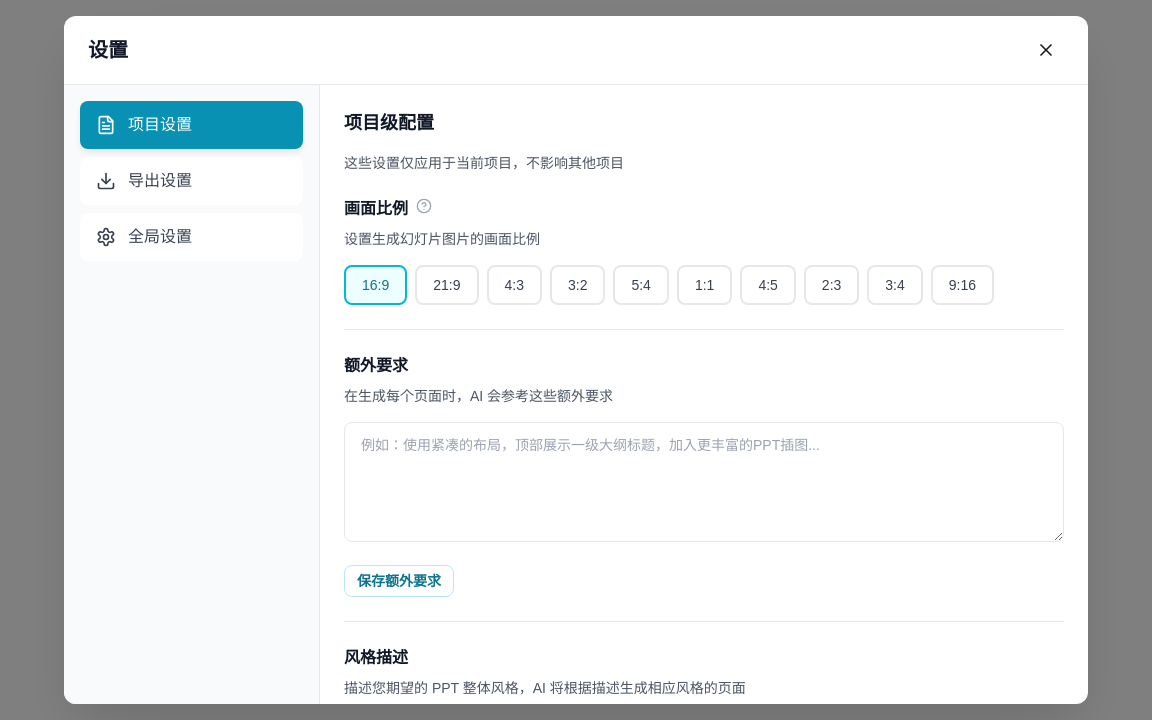
Test: ProjectSettingsModal render mode › hides image reconstruction settings for native projects
The image size is (1152, 720).
Step 1. Click the button "导出设置" → (192,181), box [80,157,303,205]
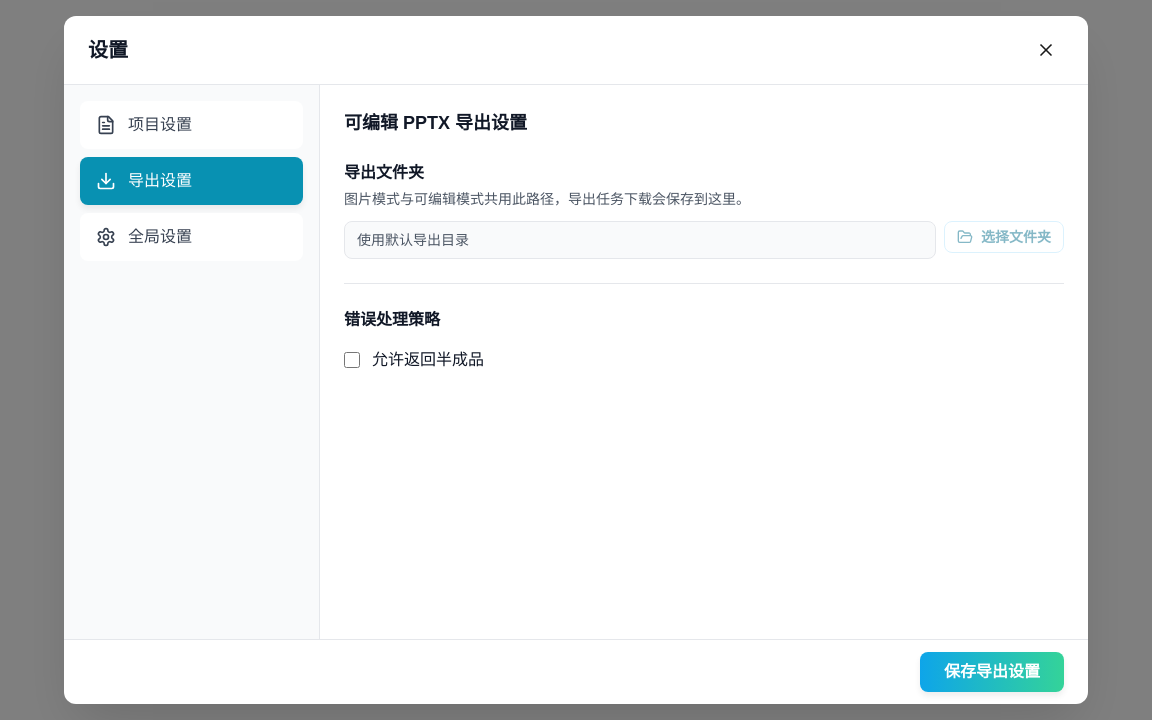
Result: the checkbox labelled "允许返回半成品" is shown at [344,352,360,368]
